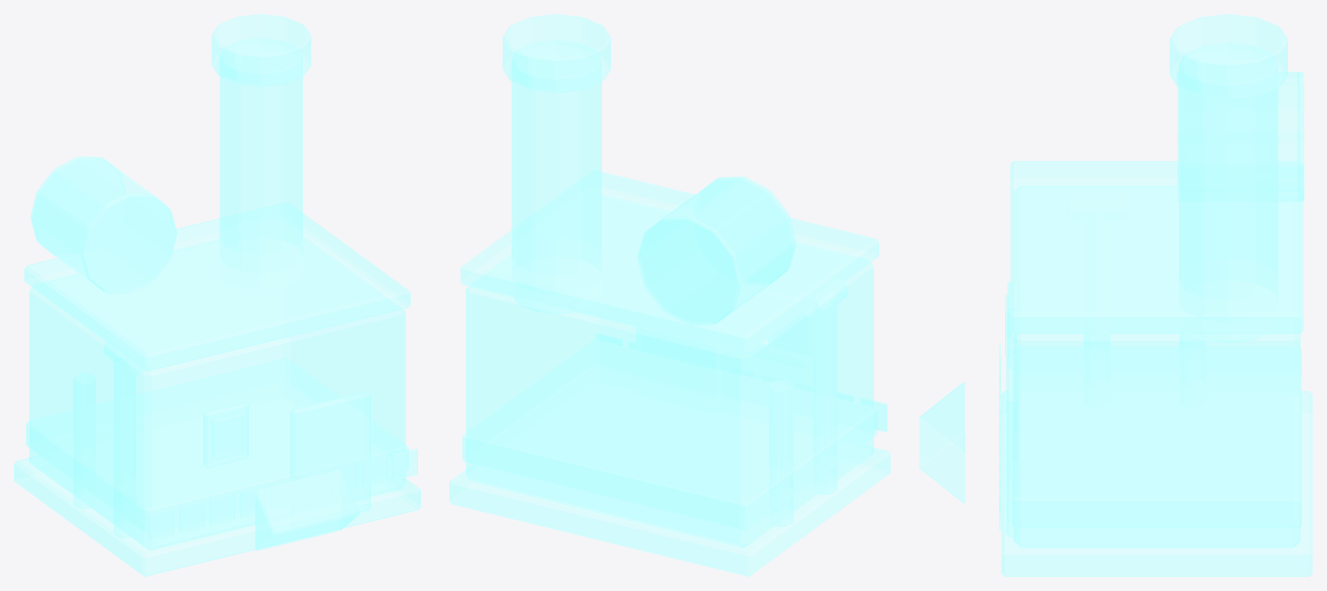
File: GH_Building_Refinery.fbx
3 renders of one model, left to right at view 1: azimuth 30°, elevation 25°; view 2: azimuth 150°, elevation 25°; view 3: azimuth 270°, elevation 25°, orthographic. The views are drawn at different scales.
Parts seen in each view (by area): view 1: SM_Building_Refinery; view 2: SM_Building_Refinery; view 3: SM_Building_Refinery.
Part boxes in pixels (x1,y1,x2,y2): SM_Building_Refinery: (14,14,420,576); SM_Building_Refinery: (449,14,890,576); SM_Building_Refinery: (919,14,1312,576).
Size of the model in its own units: 3.2 by 4.63 by 3.28.
